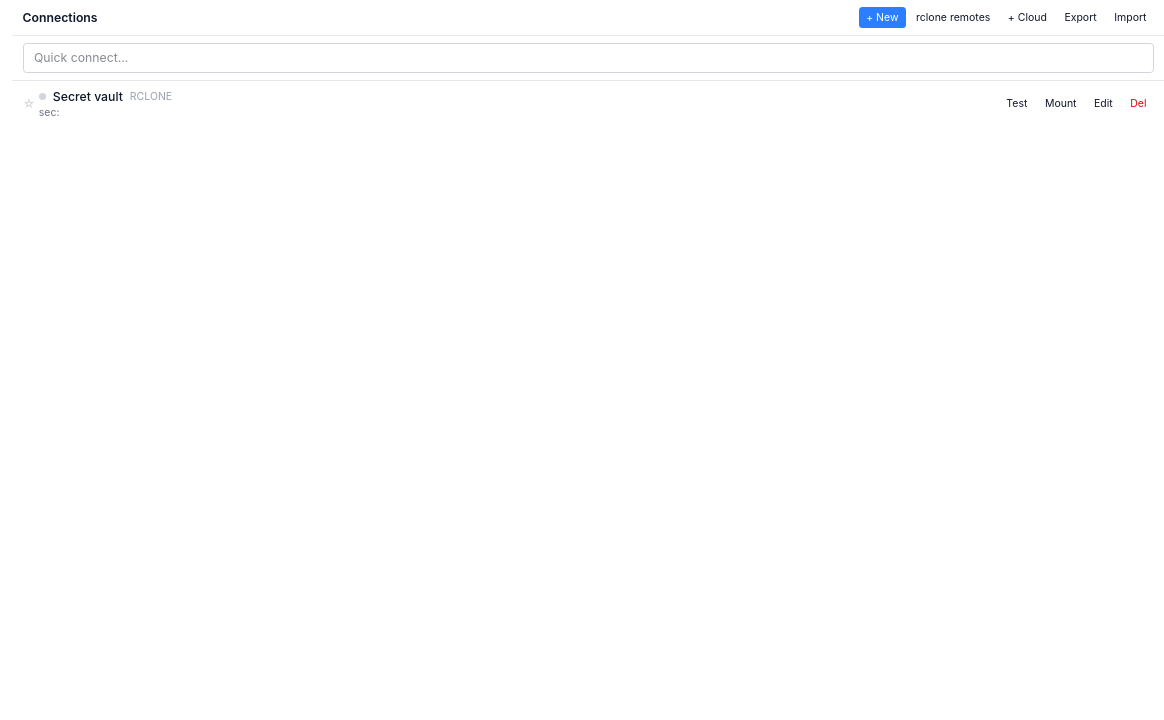
Test: ConnectionPanel × rclone › Standard: no crypt lookups or banner
Click the text "Secret vault" at (88, 97), box [53,88,123,106]
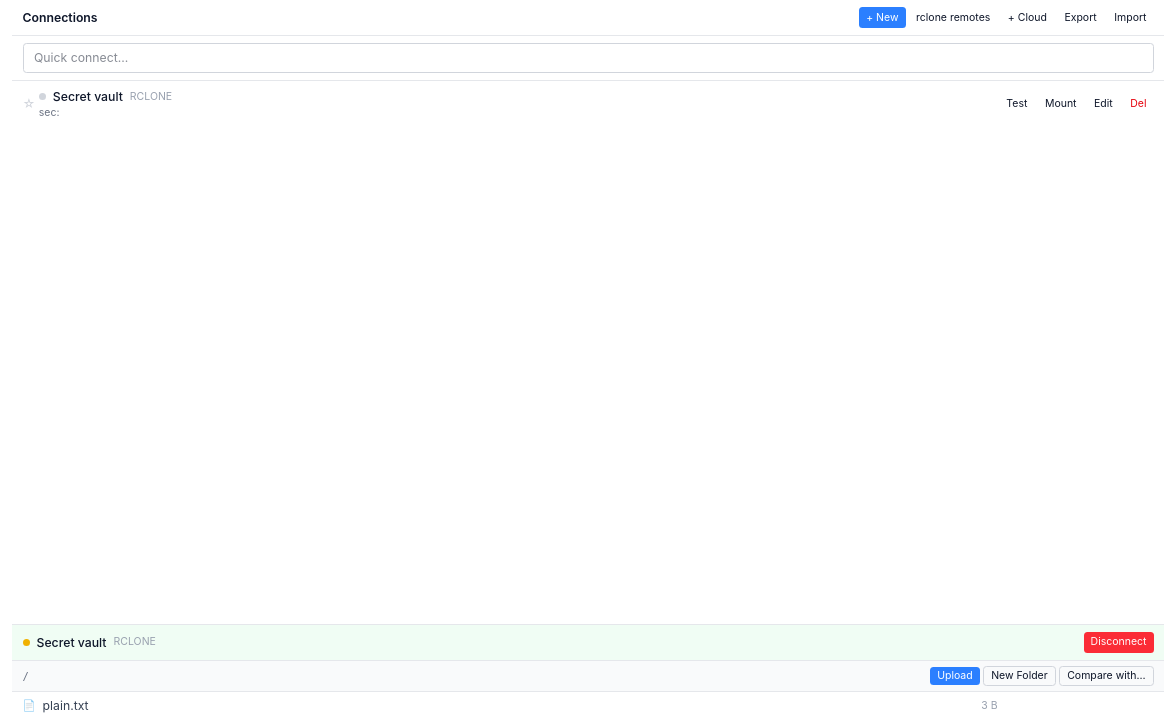
Result: the text "plain.txt" is shown at [43,697,89,715]
